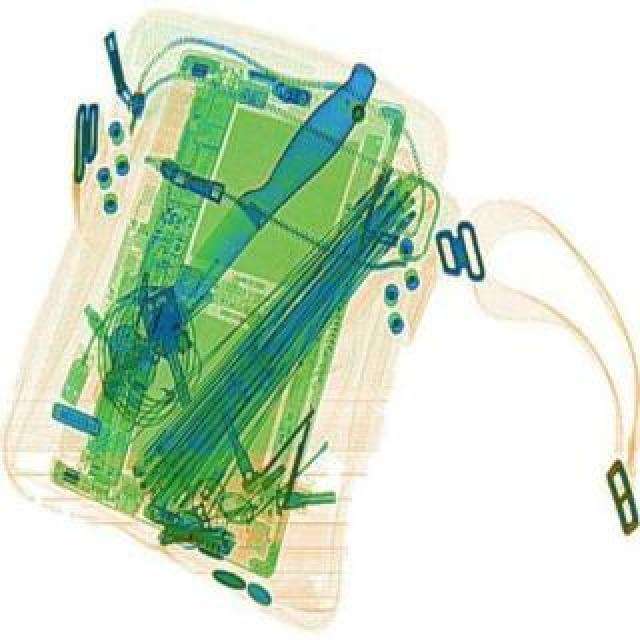knife: (140, 58, 392, 338)
